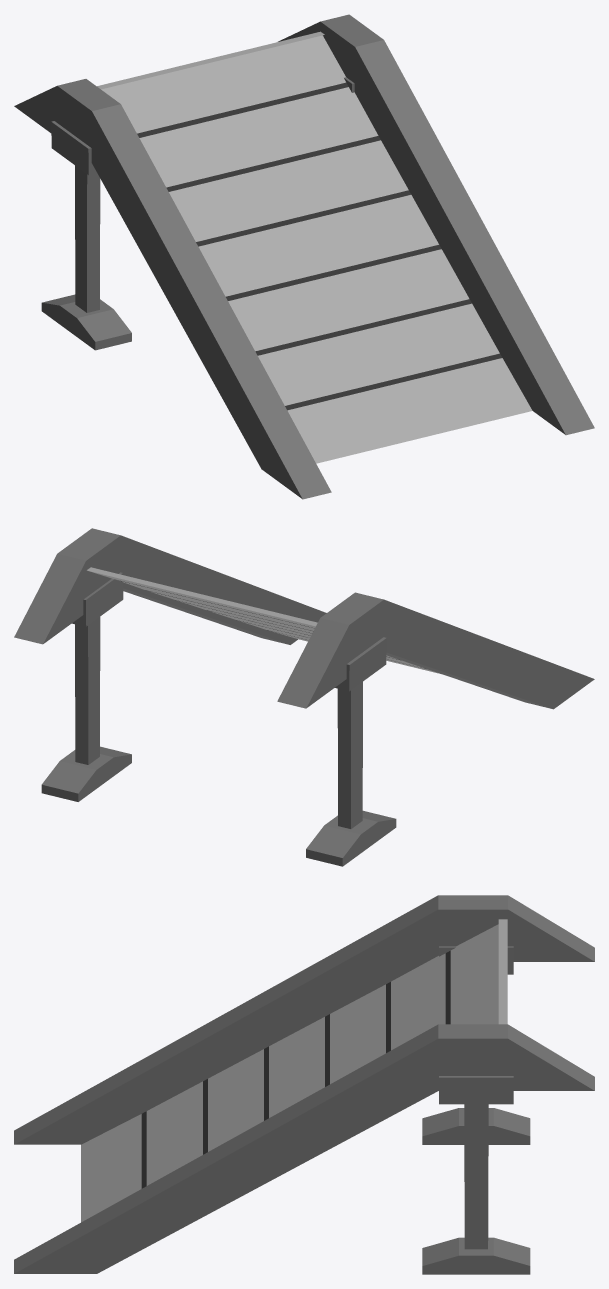
The model's file is Ramp.glb.
3 renders of one model, top to bottom at view 1: azimuth 30°, elevation 25°; view 2: azimuth 150°, elevation 25°; view 3: azimuth 270°, elevation 25°, orthographic.
Parts seen in each view (by area): view 1: Ramp; view 2: Ramp; view 3: Ramp.
Boxes of the visible parts, x1,y1,x2,y2 form: Ramp: (14,14,594,499); Ramp: (14,528,594,866); Ramp: (14,895,594,1274).
Bounding box in the file's own units: 1.87 × 1.39 × 3.11.
Materials: 1 (1 with a texture image).
